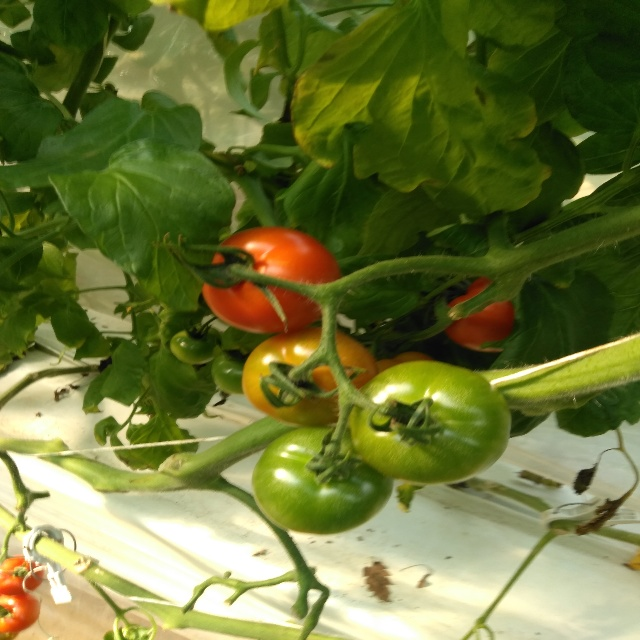l_fully_ripened: (203, 225, 344, 334), (444, 276, 515, 352), (0, 554, 44, 596), (1, 593, 41, 633)
l_green: (349, 360, 511, 485), (251, 427, 393, 535), (171, 324, 222, 364), (211, 349, 250, 395)
l_half_ripened: (241, 326, 379, 427)
